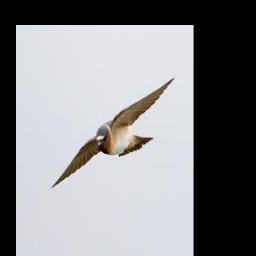Swallow: (51, 73, 176, 187)
